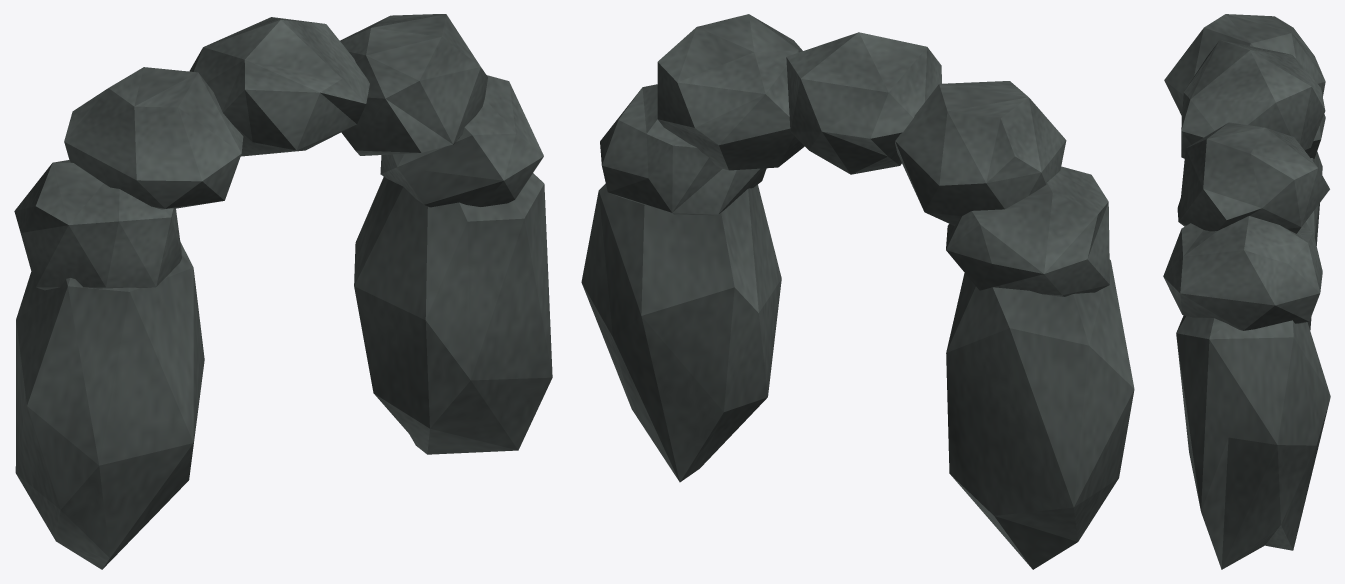
Rendered from rocks.sea_arch.lod1.glb.
The picture shows the model from 3 angles, left to right: view 1: azimuth 30°, elevation 25°; view 2: azimuth 150°, elevation 25°; view 3: azimuth 270°, elevation 25°; orthographic projection. The views are drawn at different scales.
Parts seen in each view (by area): view 1: ArchPier.001, ArchPier, ArchCrown.003, ArchCrown.002, ArchCrown.004, ArchCrown.001, ArchCrown; view 2: ArchPier, ArchPier.001, ArchCrown.003, ArchCrown.001, ArchCrown.002, ArchCrown.004, ArchCrown; view 3: ArchPier.001, ArchCrown, ArchCrown.001, ArchCrown.002, ArchCrown.003, ArchPier, ArchCrown.004.
Boxes of the visible parts, x1,y1,x2,y2 form: ArchPier.001: [354, 173, 552, 454]; ArchPier: [15, 242, 204, 569]; ArchCrown.003: [64, 67, 243, 209]; ArchCrown.002: [189, 17, 369, 156]; ArchCrown.004: [14, 160, 181, 290]; ArchCrown.001: [340, 14, 487, 155]; ArchCrown: [380, 75, 543, 207]; ArchPier: [946, 259, 1134, 569]; ArchPier.001: [581, 183, 781, 482]; ArchCrown.003: [895, 81, 1066, 225]; ArchCrown.001: [657, 14, 804, 170]; ArchCrown.002: [786, 32, 941, 174]; ArchCrown.004: [946, 166, 1109, 296]; ArchCrown: [600, 84, 766, 215]; ArchPier.001: [1176, 315, 1330, 569]; ArchCrown: [1163, 216, 1322, 330]; ArchCrown.001: [1177, 122, 1329, 233]; ArchCrown.002: [1181, 40, 1325, 150]; ArchCrown.003: [1164, 14, 1325, 116]; ArchPier: [1302, 151, 1322, 330]; ArchCrown.004: [1181, 114, 1325, 158].
Size of the model in its own units: 10.63 by 9.59 by 3.22.
1 material, 1 textured.
